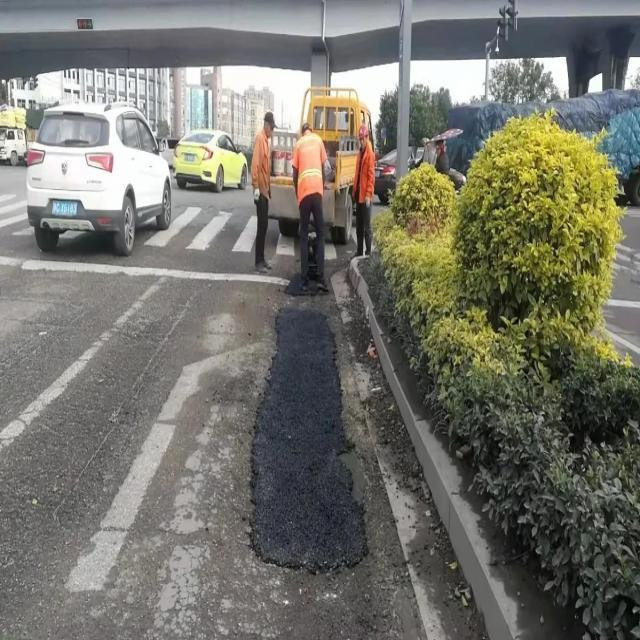pothole: (248, 293, 376, 582)
